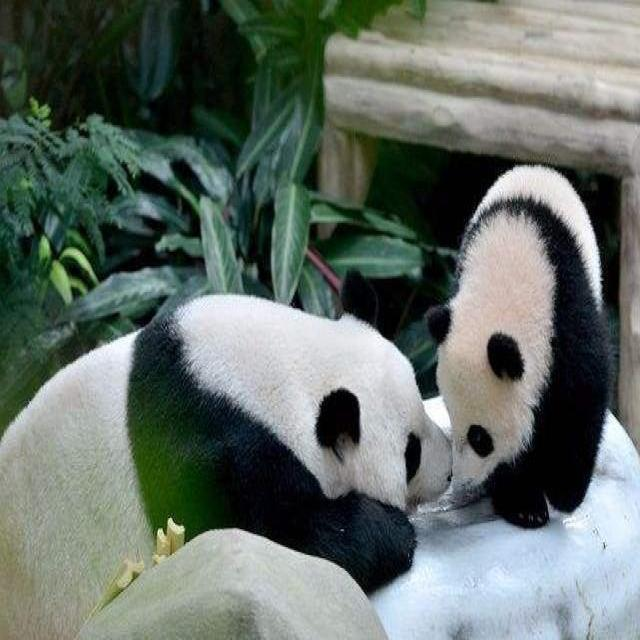panda: (0, 249, 420, 640), (421, 153, 640, 531)
